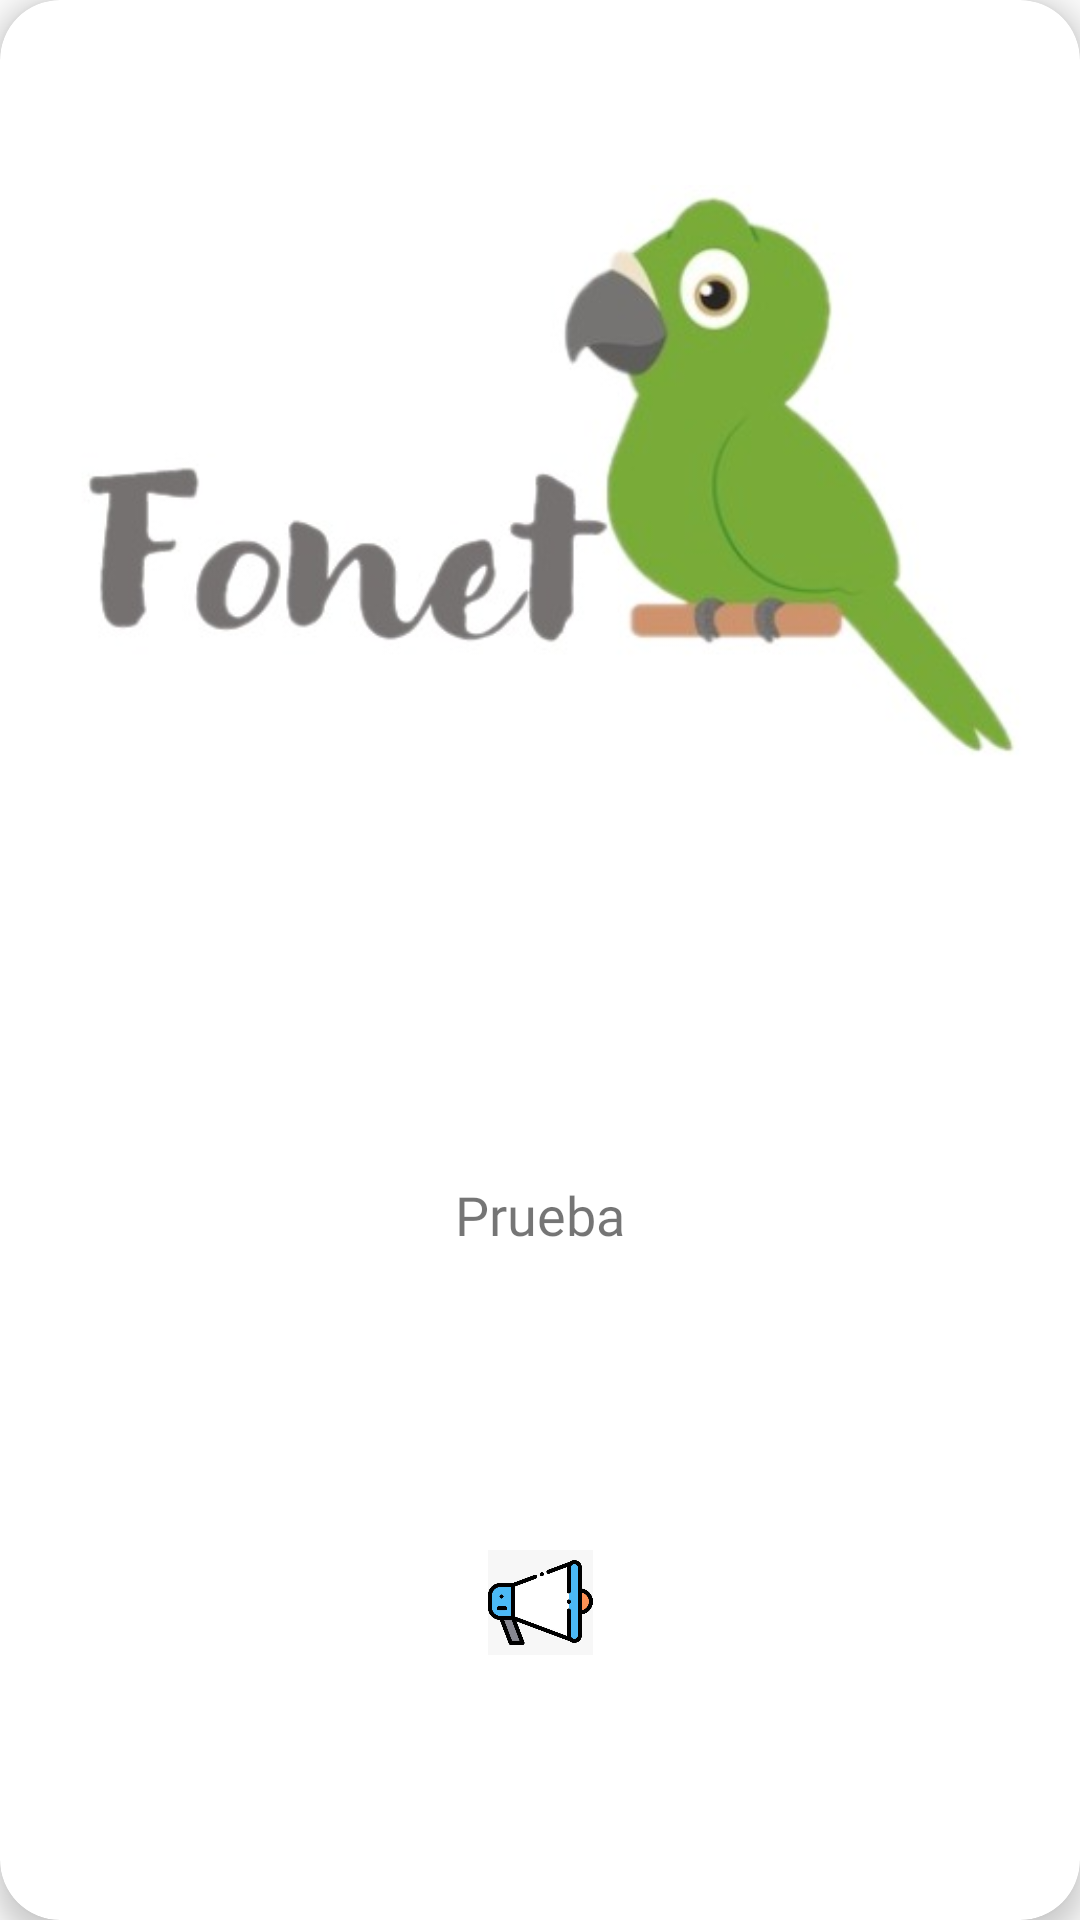

Named icons in this screenshot (1080px×1920px) and their bounding boxes, (x1, y1, x2, y2):
parlante: (488, 1560, 593, 1645)
